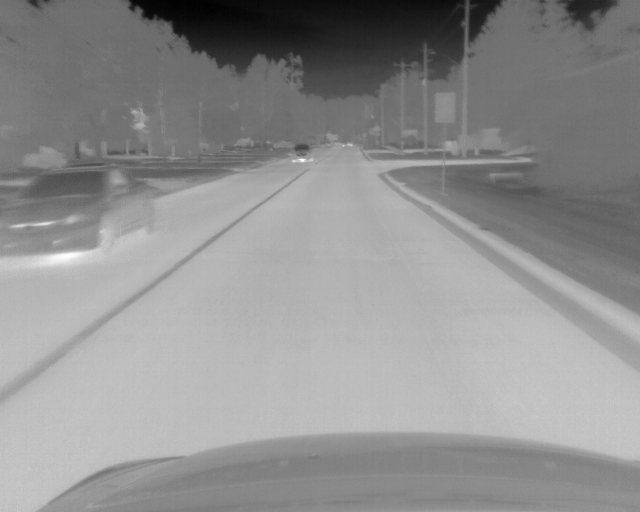car: (2, 165, 157, 262), (289, 143, 313, 163)
